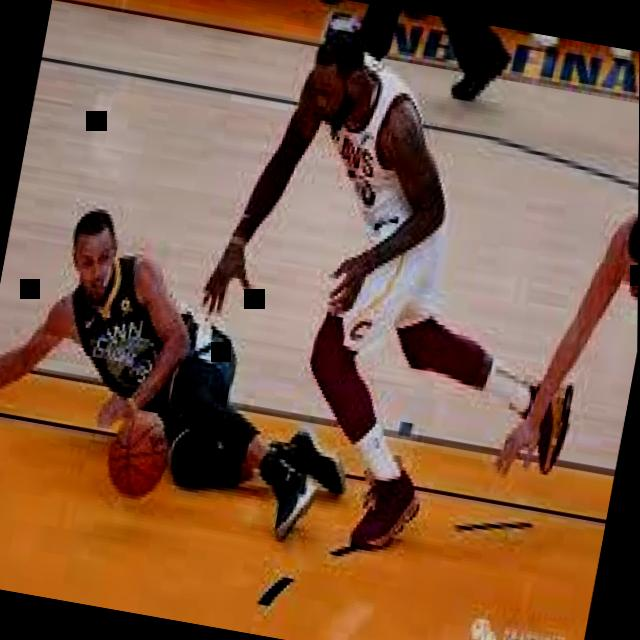Fall-Detected: (0, 170, 383, 532)
